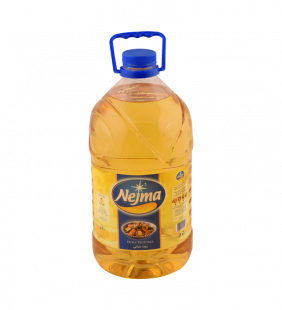NEJMA: (83, 26, 199, 284)
